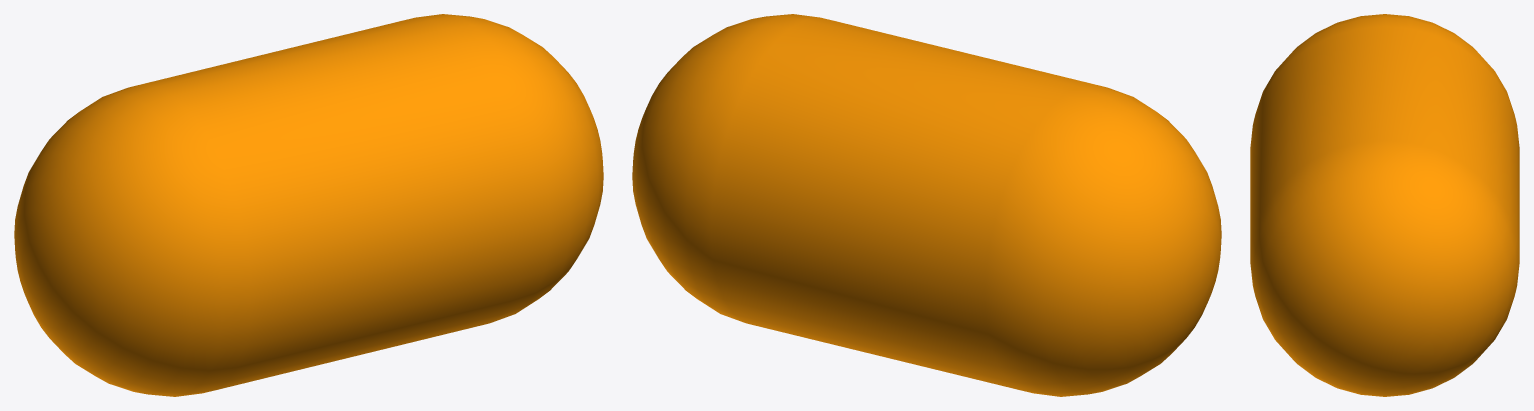
File: block_yellow.glb
The picture shows the model from 3 angles, left to right: view 1: azimuth 30°, elevation 25°; view 2: azimuth 150°, elevation 25°; view 3: azimuth 270°, elevation 25°; orthographic projection. The views are drawn at different scales.
Visible parts, largest first — view 1: Sphere; view 2: Sphere; view 3: Sphere.
Part boxes in pixels (x1,y1,x2,y2): Sphere: (14, 14, 603, 396); Sphere: (632, 14, 1221, 396); Sphere: (1250, 14, 1519, 396).
Size of the model in its own units: 2 by 1 by 1.
Materials: 1 (1 with a texture image).
